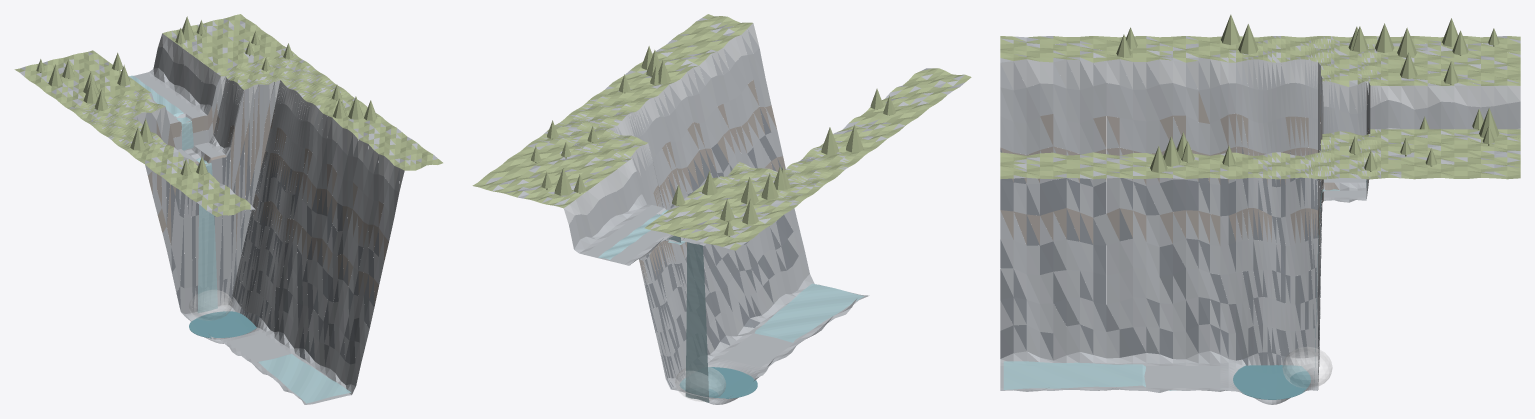
The model's file is gveleti-lod1.glb.
The picture shows the model from 3 angles, left to right: view 1: azimuth 30°, elevation 25°; view 2: azimuth 150°, elevation 25°; view 3: azimuth 270°, elevation 25°; orthographic projection. The views are drawn at different scales.
Parts seen in each view (by area): view 1: gveleti_rock, gveleti_veg, gveleti_rockDark, gveleti_soft, gveleti_water, gveleti_cap, gveleti_waterPool, gveleti_mist; view 2: gveleti_rock, gveleti_veg, gveleti_rockDark, gveleti_water, gveleti_cap, gveleti_soft, gveleti_waterPool, gveleti_mist; view 3: gveleti_rock, gveleti_veg, gveleti_rockDark, gveleti_cap, gveleti_soft, gveleti_water, gveleti_waterPool, gveleti_mist.
Boxes of the visible parts, box(x1,y1,x2,y2) form: gveleti_rock: box(20, 19, 437, 404); gveleti_veg: box(14, 14, 442, 216); gveleti_rockDark: box(166, 123, 378, 366); gveleti_soft: box(148, 86, 388, 306); gveleti_water: box(128, 75, 350, 403); gveleti_cap: box(132, 33, 404, 191); gveleti_waterPool: box(189, 311, 256, 338); gveleti_mist: box(189, 290, 232, 320); gveleti_rock: box(485, 18, 964, 404); gveleti_veg: box(472, 14, 971, 250); gveleti_rockDark: box(639, 108, 798, 388); gveleti_water: box(598, 209, 864, 402); gveleti_cap: box(563, 23, 759, 224); gveleti_soft: box(639, 80, 785, 281); gveleti_waterPool: box(679, 367, 757, 398); gveleti_mist: box(675, 366, 725, 401); gveleti_rock: box(1000, 36, 1520, 404); gveleti_veg: box(1000, 14, 1520, 179); gveleti_rockDark: box(1000, 147, 1322, 379); gveleti_cap: box(1000, 59, 1520, 152); gveleti_soft: box(1000, 91, 1369, 245); gveleti_water: box(1003, 179, 1366, 390); gveleti_waterPool: box(1233, 365, 1310, 399); gveleti_mist: box(1282, 347, 1332, 387).
Bounding box in the file's own units: 20 × 21.35 × 31.
